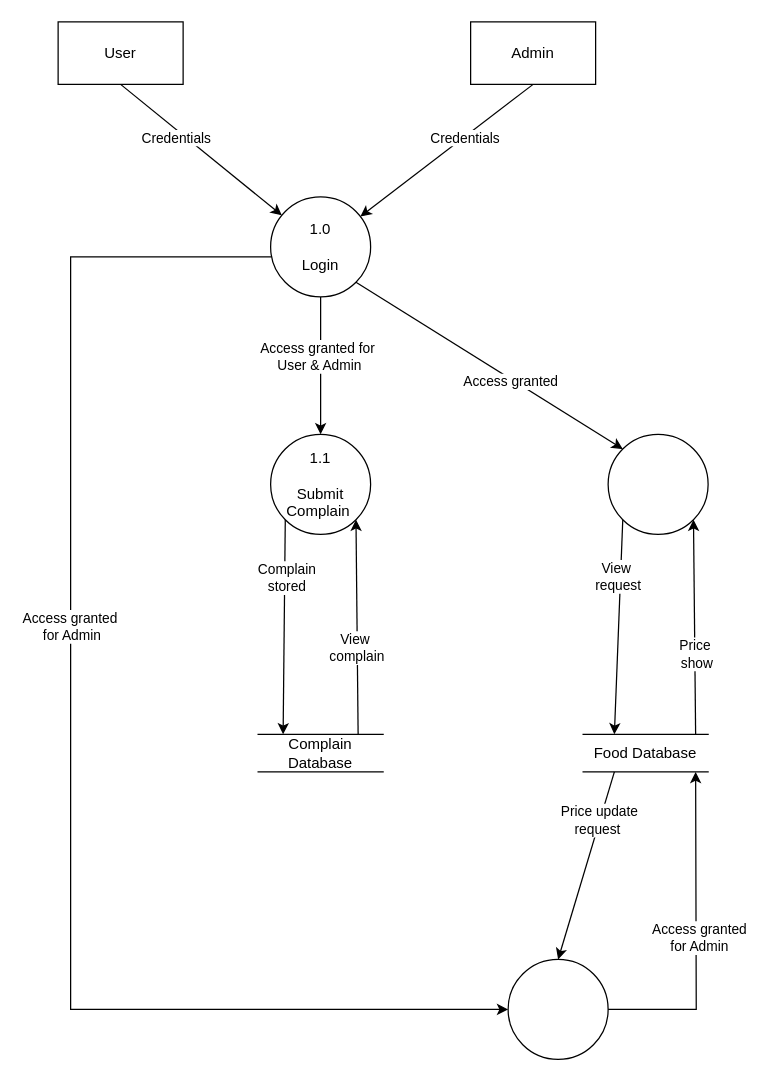
Some shapes in this 768 by 1081 pixel diagram are drawn without their labels. Here are the shapes that lost their labels. From the top down, the centre of each, then its label:
the point at 657,483: 1.2 View
the point at 557,1008: 1.3 Update price
